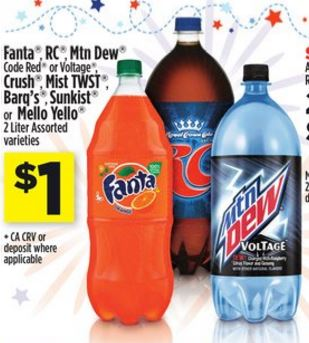fanta: (92, 65, 174, 325)
